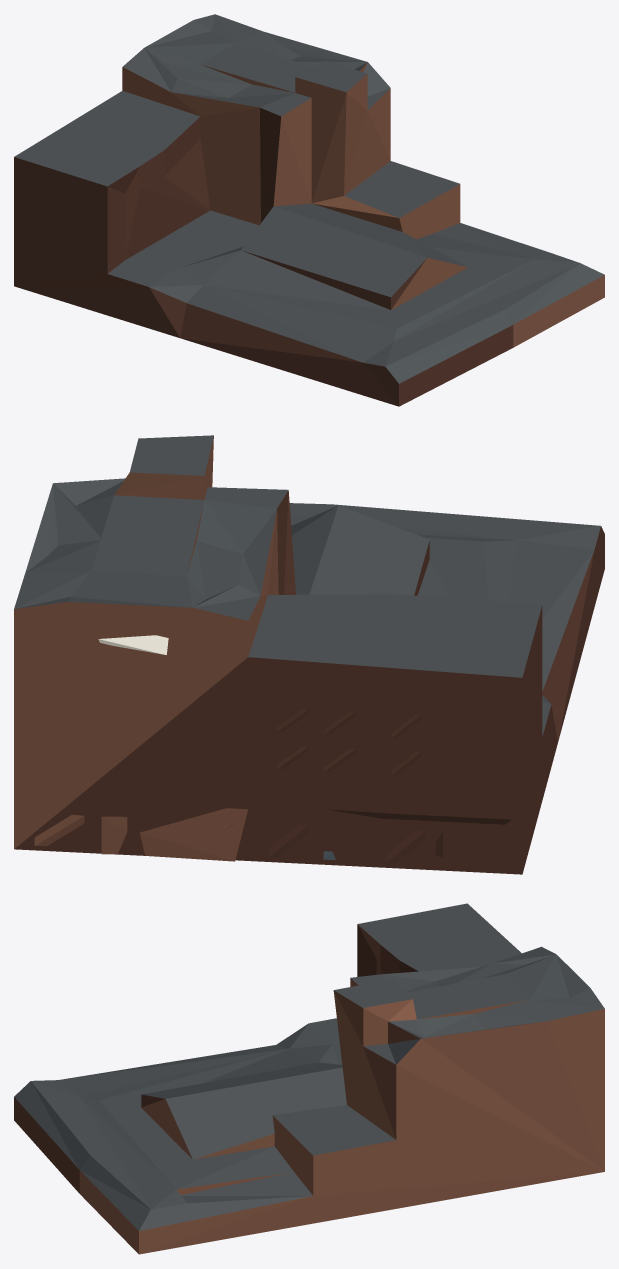
Rendered from overtoom-197.lod2.glb.
The picture shows the model from 3 angles, top to bottom: view 1: azimuth 30°, elevation 25°; view 2: azimuth 150°, elevation 25°; view 3: azimuth 270°, elevation 25°; orthographic projection. The views are drawn at different scales.
Visible parts, largest first — view 1: lod2; view 2: lod2; view 3: lod2.
Part boxes in pixels (x1,y1,x2,y2): lod2: [14, 14, 604, 406]; lod2: [14, 435, 604, 874]; lod2: [14, 903, 604, 1254].
Bounding box in the file's own units: 64.56 × 25.15 × 74.12.
